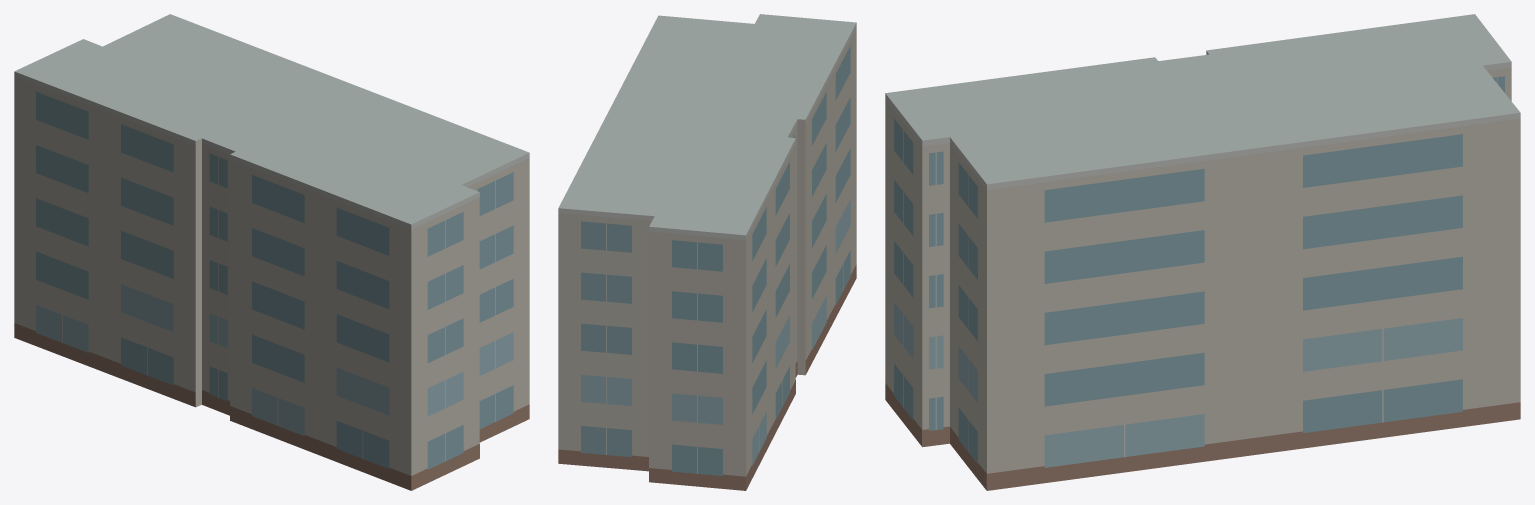
Rendered from survey-upis-32660806.glb.
3 renders of one model, left to right at view 1: azimuth 30°, elevation 25°; view 2: azimuth 150°, elevation 25°; view 3: azimuth 270°, elevation 25°, orthographic. The views are drawn at different scales.
Parts seen in each view (by area): view 1: survey-upis-32660806.tmp; view 2: survey-upis-32660806.tmp; view 3: survey-upis-32660806.tmp.
Boxes of the visible parts, box(x1,y1,x2,y2) form: survey-upis-32660806.tmp: box(14, 14, 529, 490); survey-upis-32660806.tmp: box(558, 14, 856, 490); survey-upis-32660806.tmp: box(885, 14, 1520, 490).
Bounding box in the file's own units: 15.62 × 13.1 × 24.62.
